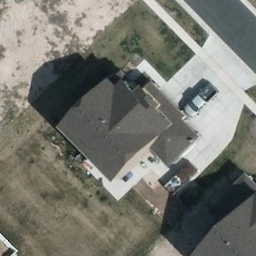car: (183, 79, 217, 117), (163, 162, 197, 196)
